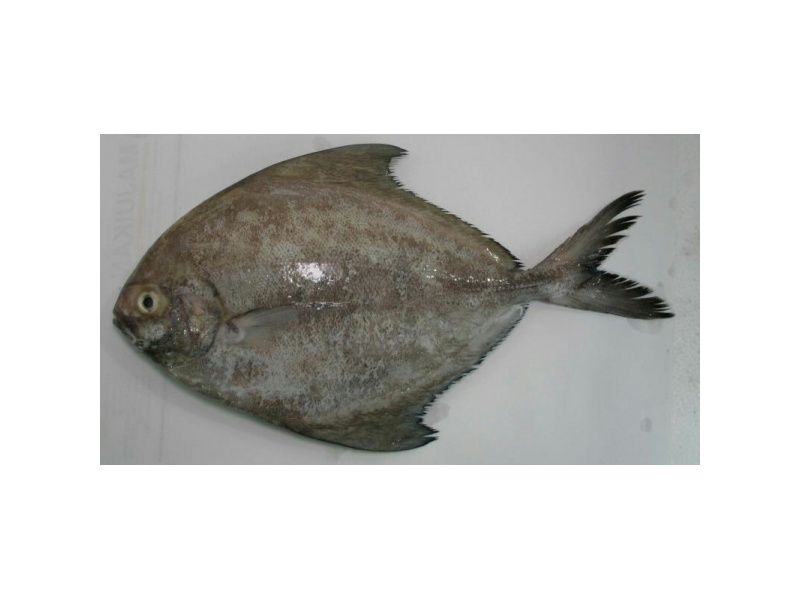Ikan Bawal: (102, 135, 698, 456)
